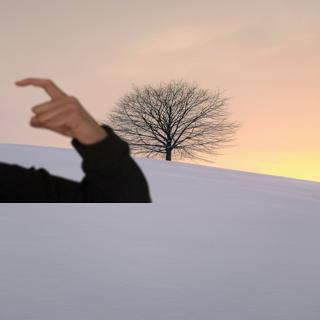WHY: (10, 73, 104, 141)
